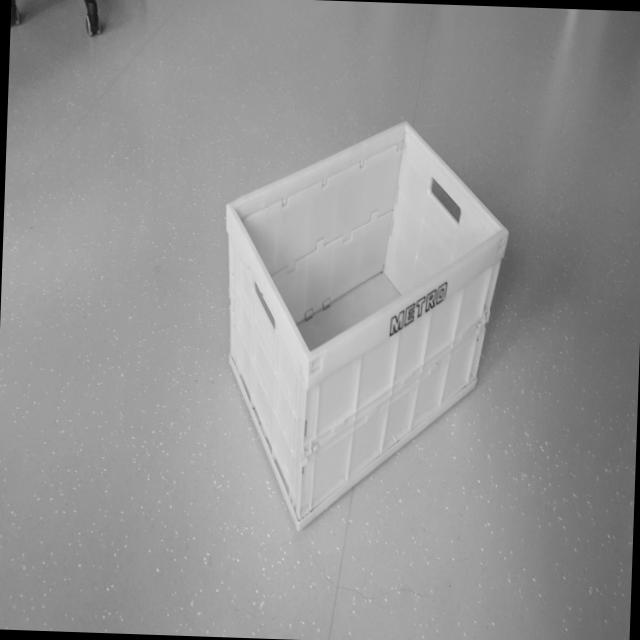box: (204, 107, 516, 540)
